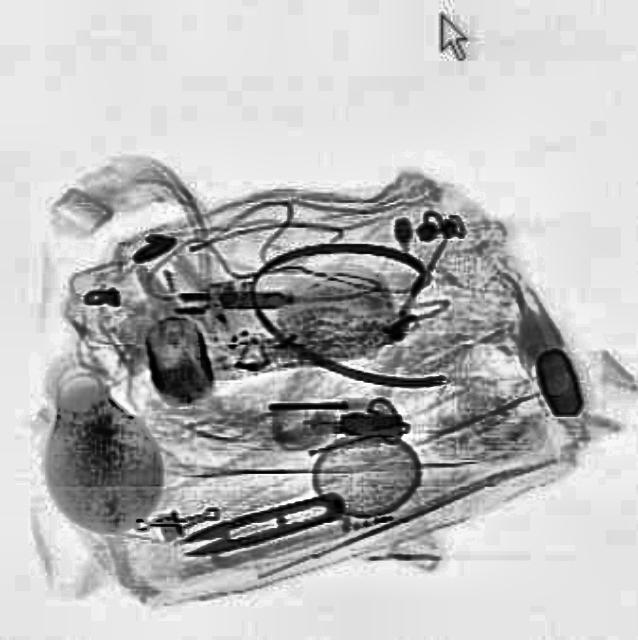Scissors: (174, 481, 346, 564)
